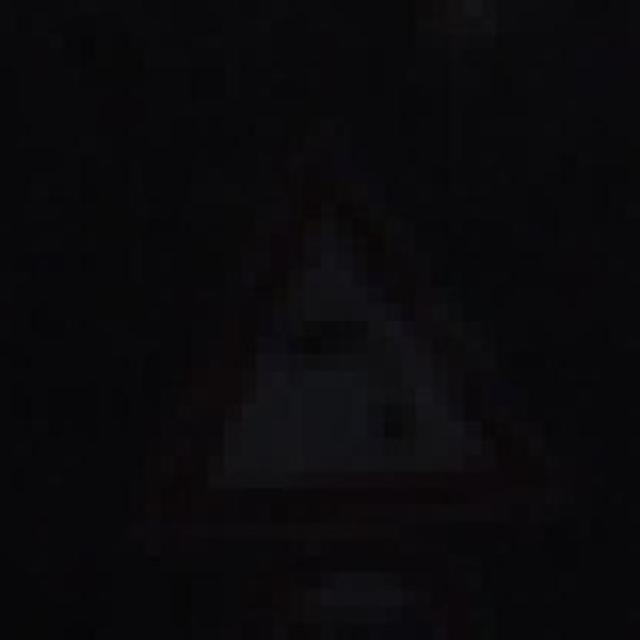Dangerous Left Curve Ahead: (134, 127, 552, 548)
